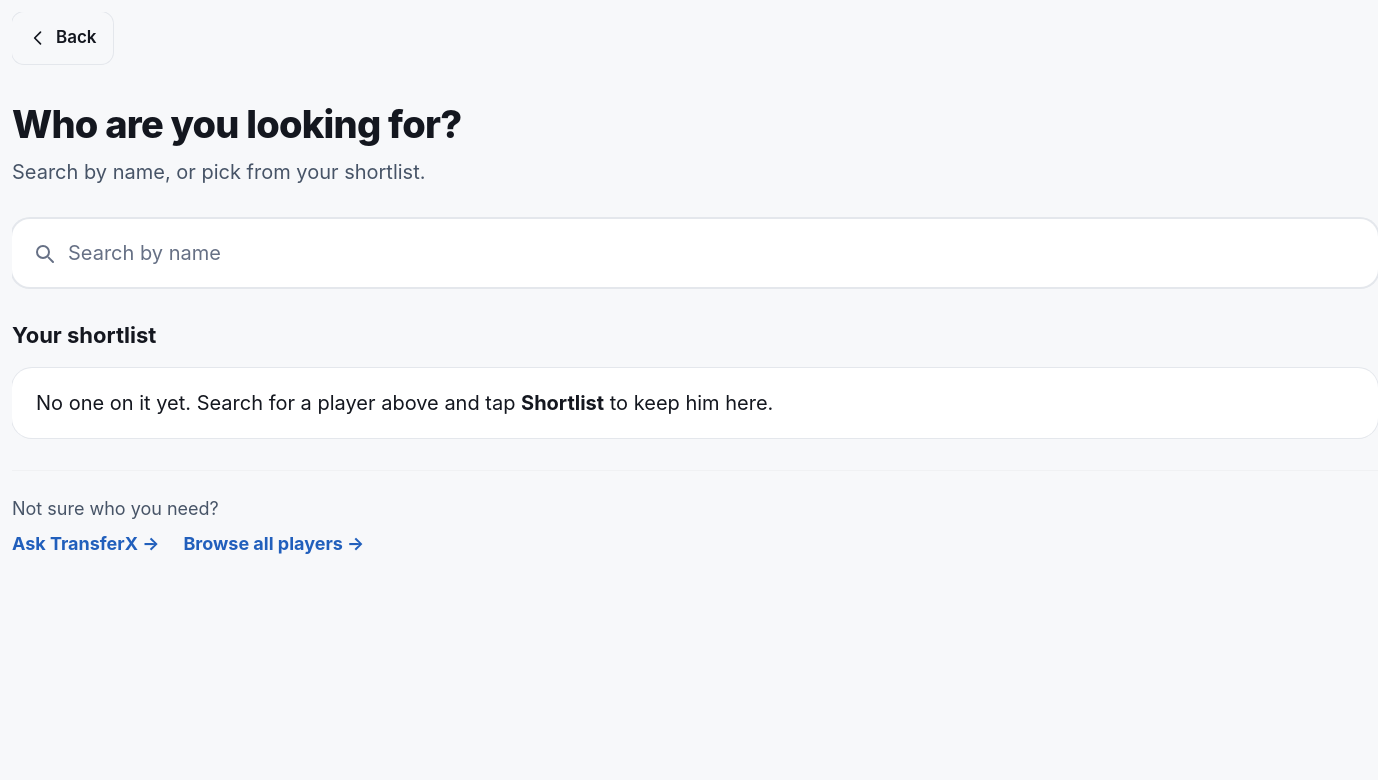
Test: Lite Buy: search by name › keeps the search in the URL and says when no one matches
Type "Zzz" into the search field at (713, 253), box [68,238,1358,268]
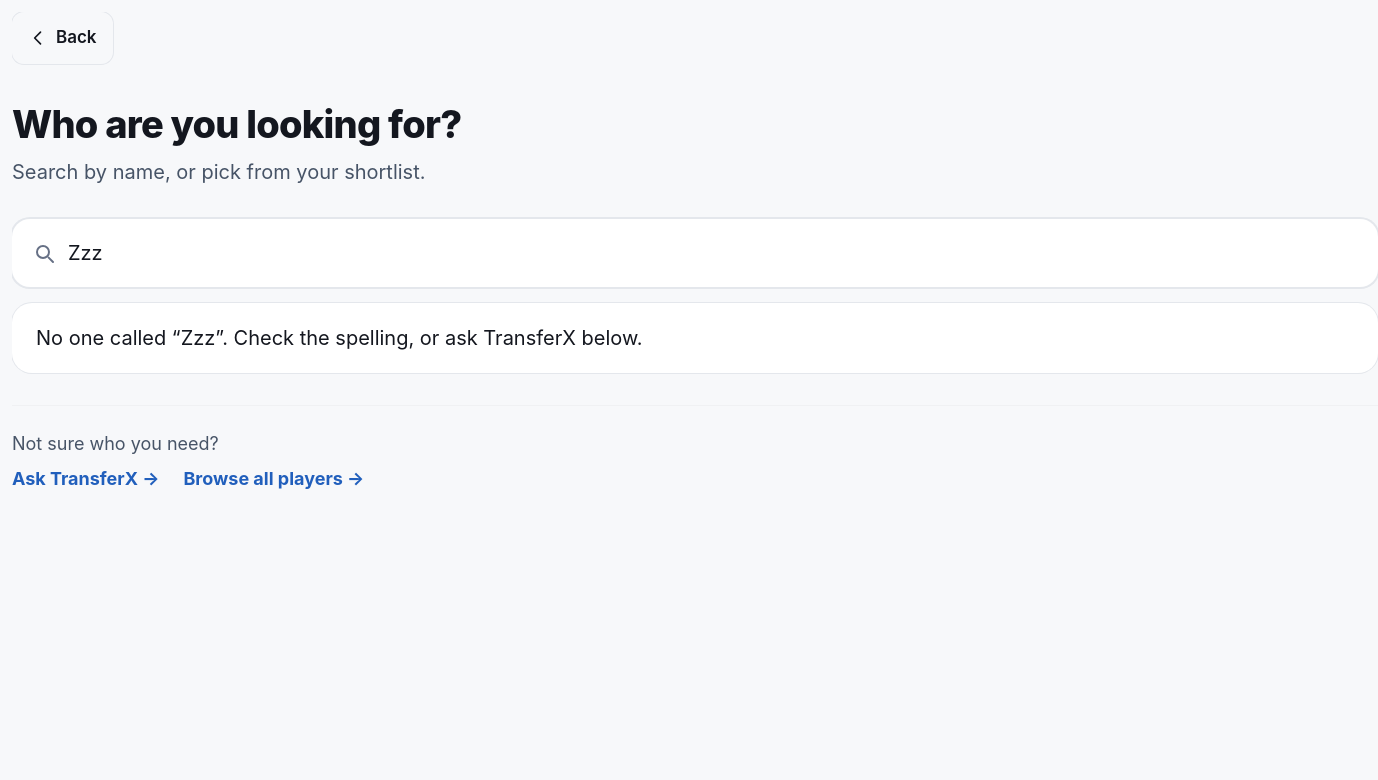
Expected: the text "No one called" shows "No one called “Zzz”", [12,303,1377,373]
